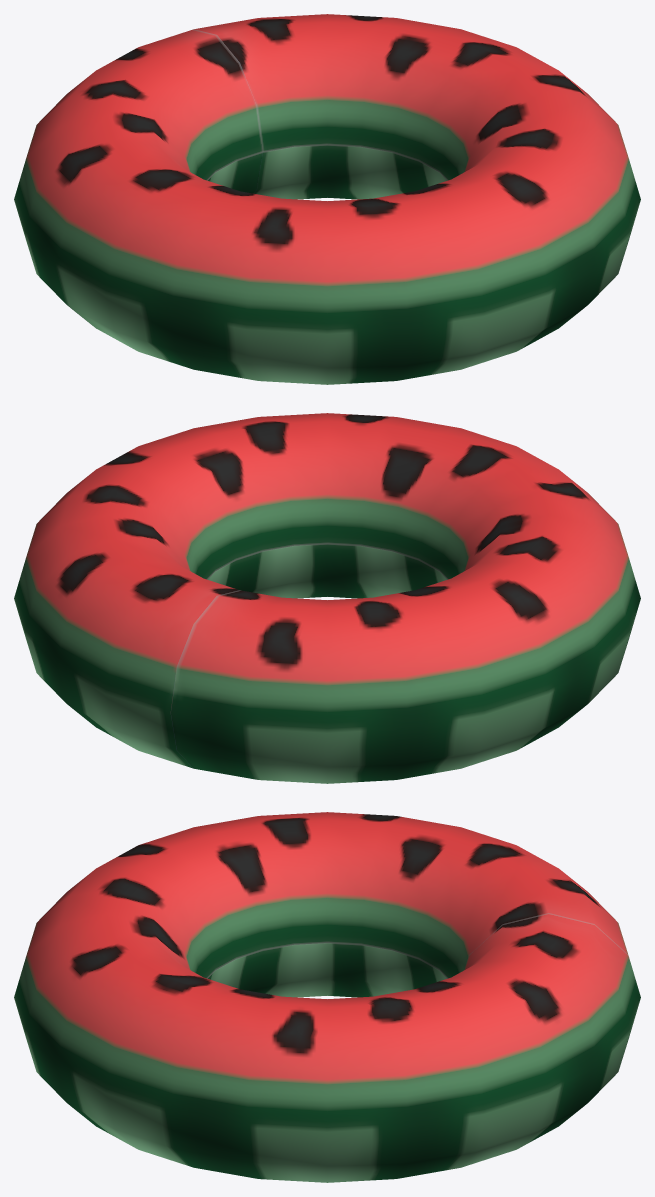
The model's file is WATERMELON.fbx.
3 renders of one model, top to bottom at view 1: azimuth 30°, elevation 25°; view 2: azimuth 150°, elevation 25°; view 3: azimuth 270°, elevation 25°, orthographic.
Visible parts, largest first — view 1: FLOAT_WATERMELON; view 2: FLOAT_WATERMELON; view 3: FLOAT_WATERMELON.
Boxes of the visible parts, x1,y1,x2,y2 form: FLOAT_WATERMELON: (14,14,640,384); FLOAT_WATERMELON: (14,413,640,783); FLOAT_WATERMELON: (14,812,640,1182).
Bounding box in the file's own units: 170 × 50 × 170.
